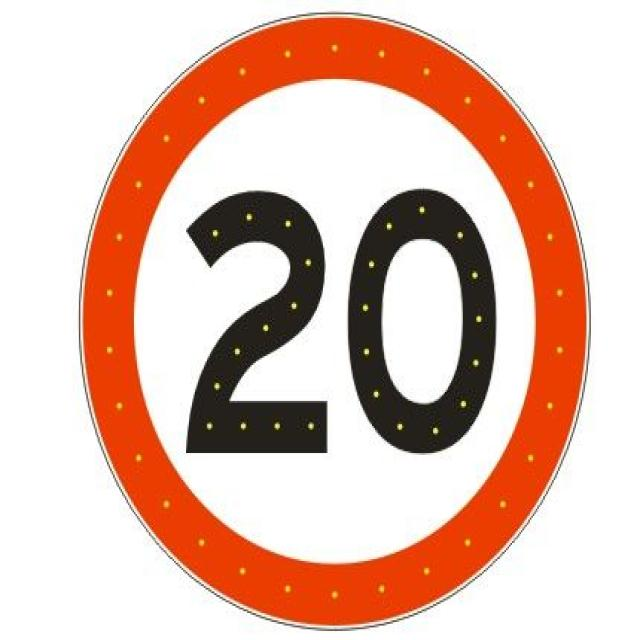speed limit 20: (76, 10, 593, 634)
